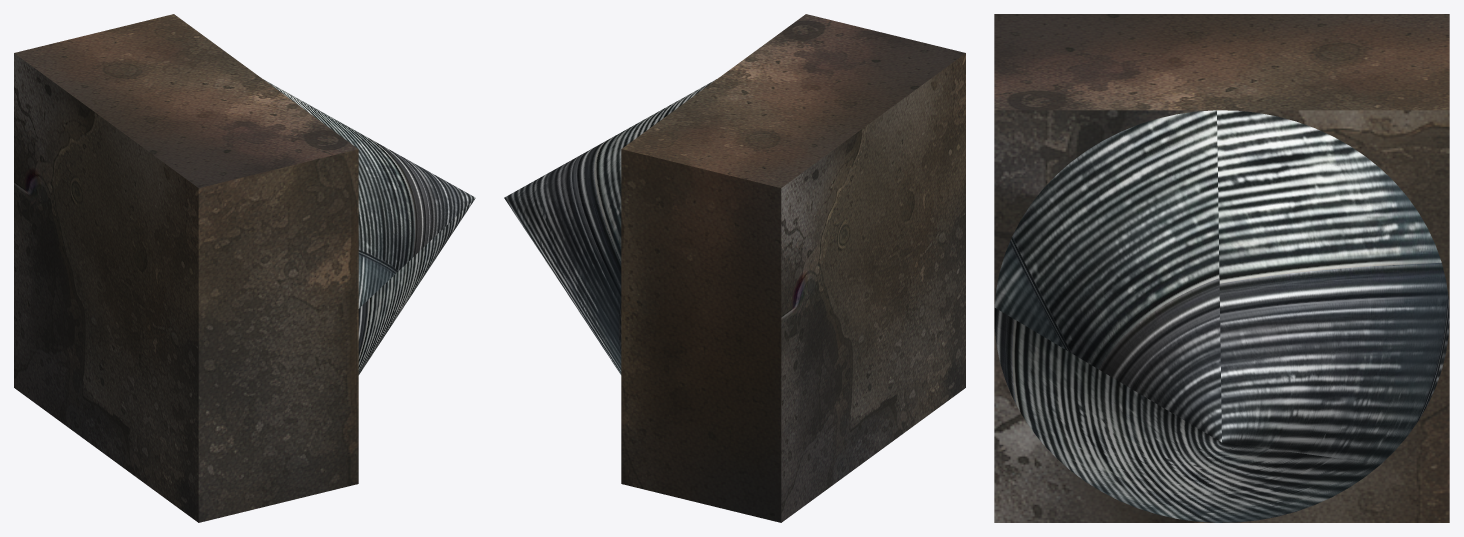
Rendered from thorn.fbx.
The picture shows the model from 3 angles, left to right: view 1: azimuth 30°, elevation 25°; view 2: azimuth 150°, elevation 25°; view 3: azimuth 270°, elevation 25°; orthographic projection. The views are drawn at different scales.
Parts seen in each view (by area): view 1: Cube, 円錐; view 2: Cube, 円錐; view 3: 円錐, Cube.
Part boxes in pixels (bbox=[...]): Cube: bbox=[14, 14, 358, 522]; 円錐: bbox=[263, 79, 475, 374]; Cube: bbox=[621, 14, 965, 522]; 円錐: bbox=[504, 79, 716, 374]; 円錐: bbox=[994, 110, 1449, 522]; Cube: bbox=[994, 14, 1449, 522].
Bounding box in the file's own units: 231 × 200 × 200.
Materials: 2 (2 with a texture image).
